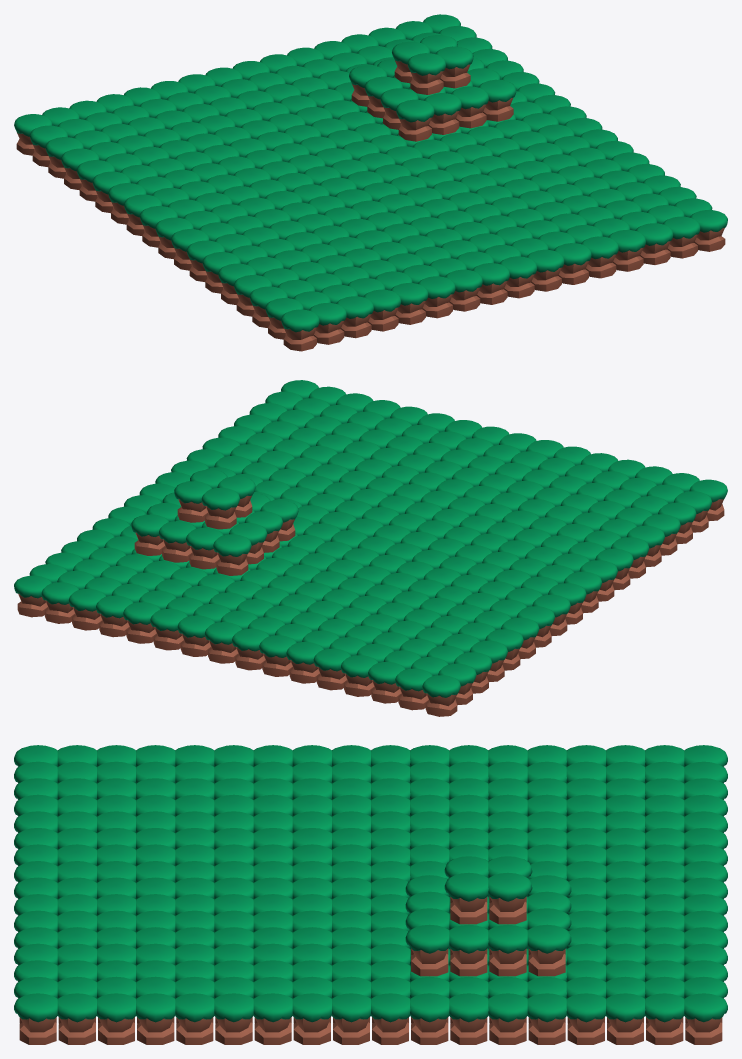
File: hillBiome.fbx
3 views of the same model, one above another, from view 1: azimuth 30°, elevation 25°; view 2: azimuth 150°, elevation 25°; view 3: azimuth 270°, elevation 25° (orthographic). The views are drawn at different scales.
Visible parts, largest first — view 1: Hill_2x2x2_Color2.297, Hill_2x2x2_Color2.216, Hill_2x2x2_Color2.305, Hill_2x2x2_Color2.307, Hill_2x2x2_Color2.189, Hill_2x2x2_Color2.303, Hill_2x2x2_Color2.201, Hill_2x2x2_Color2.273, Hill_2x2x2_Color2.299, Hill_2x2x2_Color2.177, Hill_2x2x2_Color2.252, Hill_2x2x2_Color2.264 (+31 smaller); view 2: Hill_2x2x2_Color2.294, Hill_2x2x2_Color2.080, Hill_2x2x2_Color2.304, Hill_2x2x2_Color2.042, Hill_2x2x2_Color2.306, Hill_2x2x2_Color2.300, Hill_2x2x2_Color2.051, Hill_2x2x2_Color2.054, Hill_2x2x2_Color2.098, Hill_2x2x2_Color2.092, Hill_2x2x2_Color2.089, Hill_2x2x2_Color2.289 (+31 smaller); view 3: Hill_2x2x2_Color2.303, Hill_2x2x2_Color2.300, Hill_2x2x2_Color2.307, Hill_2x2x2_Color2.306, Hill_2x2x2_Color2.042, Hill_2x2x2_Color2.189, Hill_2x2x2_Color2.301, Hill_2x2x2_Color2.302, Hill_2x2x2_Color2.029, Hill_2x2x2_Color2.025, Hill_2x2x2_Color2.187, Hill_2x2x2_Color2.188 (+264 smaller).
Part boxes in pixels (box(x1,y1,x2,y2)): Hill_2x2x2_Color2.297: box(396, 99, 434, 141); Hill_2x2x2_Color2.216: box(281, 309, 319, 351); Hill_2x2x2_Color2.305: box(407, 53, 445, 94); Hill_2x2x2_Color2.307: box(436, 46, 473, 88); Hill_2x2x2_Color2.189: box(690, 210, 727, 251); Hill_2x2x2_Color2.303: box(478, 79, 516, 121); Hill_2x2x2_Color2.201: box(581, 236, 618, 278); Hill_2x2x2_Color2.273: box(364, 289, 401, 331); Hill_2x2x2_Color2.299: box(451, 86, 488, 128); Hill_2x2x2_Color2.177: box(527, 249, 564, 291); Hill_2x2x2_Color2.252: box(336, 296, 373, 338); Hill_2x2x2_Color2.264: box(445, 269, 482, 311); Hill_2x2x2_Color2.294: box(213, 534, 251, 575); Hill_2x2x2_Color2.080: box(422, 675, 460, 716); Hill_2x2x2_Color2.304: box(201, 487, 239, 529); Hill_2x2x2_Color2.042: box(14, 575, 51, 617); Hill_2x2x2_Color2.306: box(174, 481, 211, 522); Hill_2x2x2_Color2.300: box(131, 514, 168, 555); Hill_2x2x2_Color2.051: box(96, 595, 133, 637); Hill_2x2x2_Color2.054: box(123, 602, 160, 643); Hill_2x2x2_Color2.098: box(259, 635, 296, 676); Hill_2x2x2_Color2.092: box(313, 648, 350, 690); Hill_2x2x2_Color2.089: box(340, 655, 378, 696); Hill_2x2x2_Color2.289: box(186, 527, 223, 569); Hill_2x2x2_Color2.303: box(405, 924, 449, 976); Hill_2x2x2_Color2.300: box(527, 924, 571, 976); Hill_2x2x2_Color2.307: box(444, 872, 488, 924); Hill_2x2x2_Color2.306: box(488, 872, 532, 924); Hill_2x2x2_Color2.042: box(684, 993, 727, 1044); Hill_2x2x2_Color2.189: box(14, 993, 57, 1044); Hill_2x2x2_Color2.301: box(488, 924, 527, 976); Hill_2x2x2_Color2.302: box(449, 924, 488, 976); Hill_2x2x2_Color2.029: box(488, 993, 527, 1044); Hill_2x2x2_Color2.025: box(410, 993, 449, 1044); Hill_2x2x2_Color2.187: box(175, 993, 214, 1044); Hill_2x2x2_Color2.188: box(214, 993, 253, 1044).
Size of the model in its own units: 3250 by 600 by 3650.
